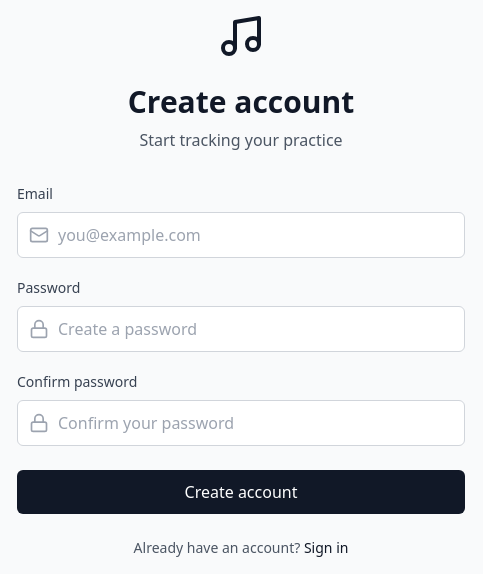
Test: Signup › shows success screen after successful signup
The width and height of the screenshot is (483, 574).
Type "test@example.com" into the field labelled "Email".
click(241, 235); type("test@example.com")  # box [17,212,465,258]
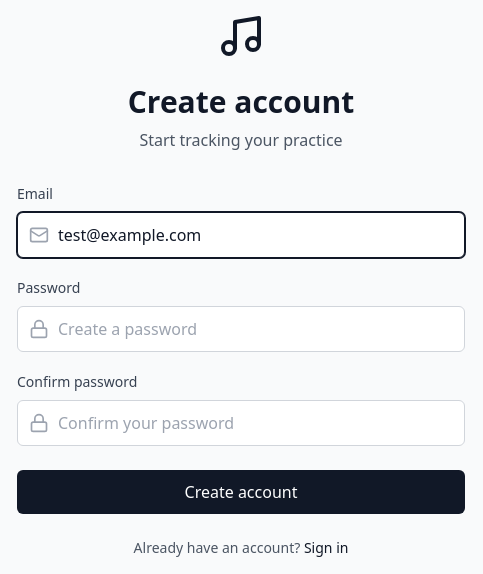
Type "password123" into the password field labelled "Password".
click(241, 329); type("password123")  # box [17,306,465,352]
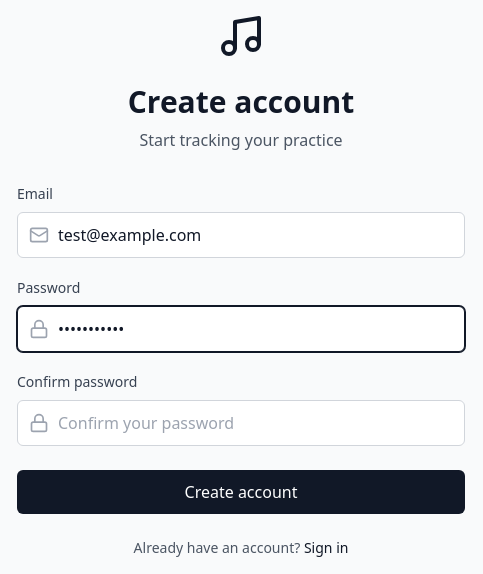
Type "password123" into the password field labelled "Confirm password".
click(241, 423); type("password123")  # box [17,400,465,446]
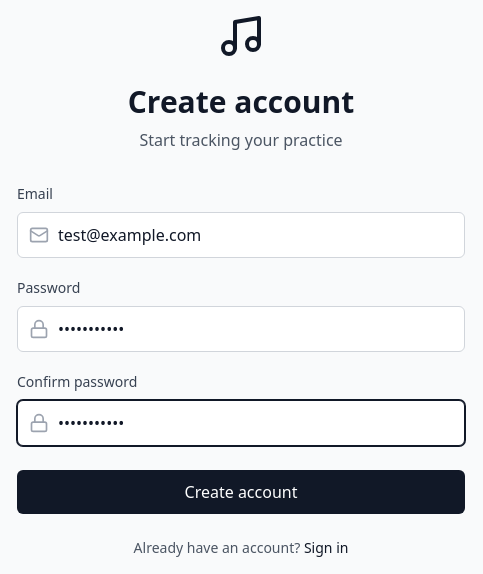
Click the button "Create account".
click(241, 492)  # box [17,470,465,514]
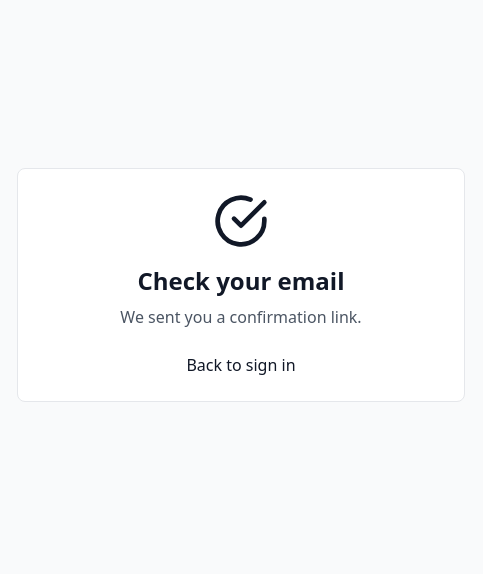
Expected: the heading "Check your email" is shown, [138,264,344,297]
